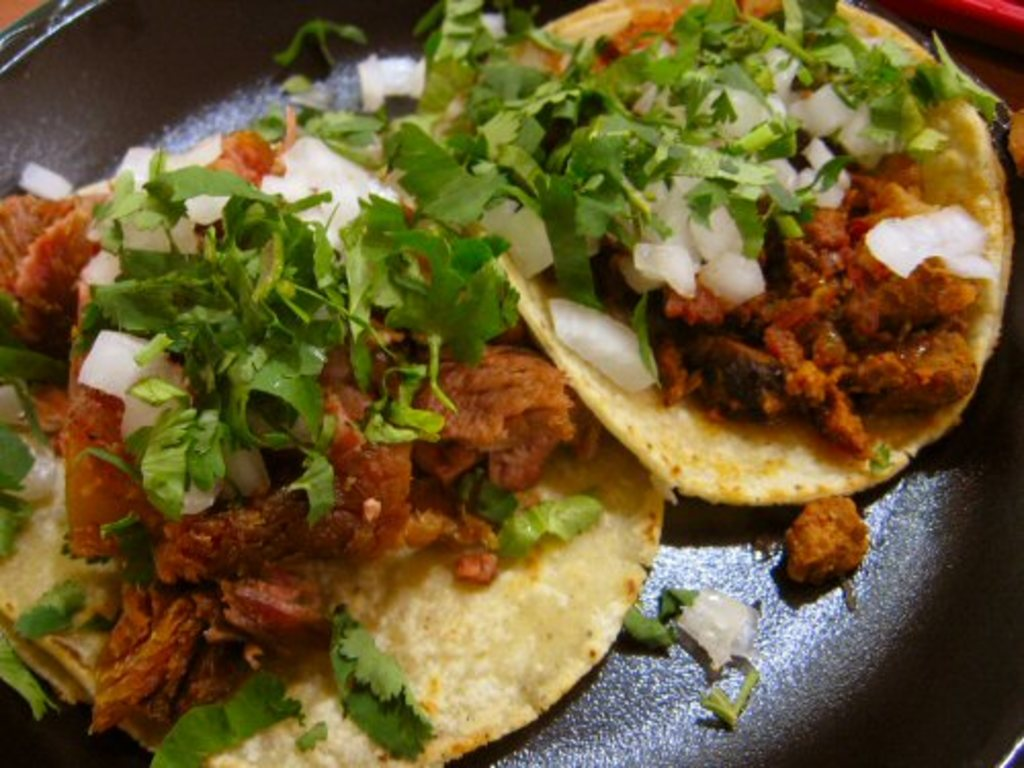taco: (0, 102, 674, 766), (428, 0, 1014, 510)
